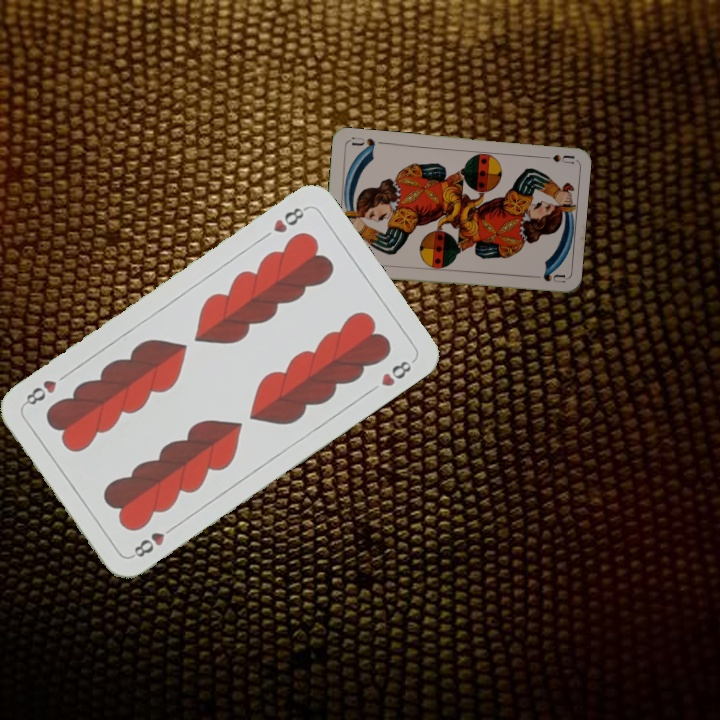H8: (127, 521, 179, 560), (269, 202, 310, 236)
SU: (535, 150, 575, 166)
